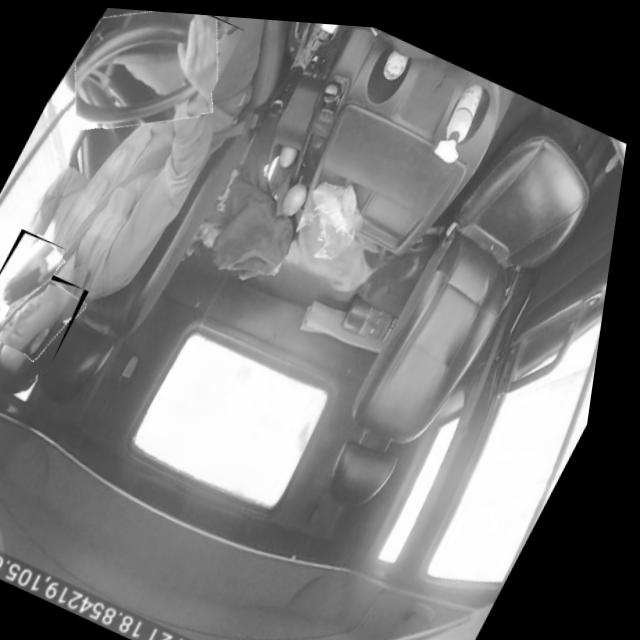phone: (0, 261, 99, 364), (0, 225, 75, 315)
wheel: (44, 3, 245, 160)
